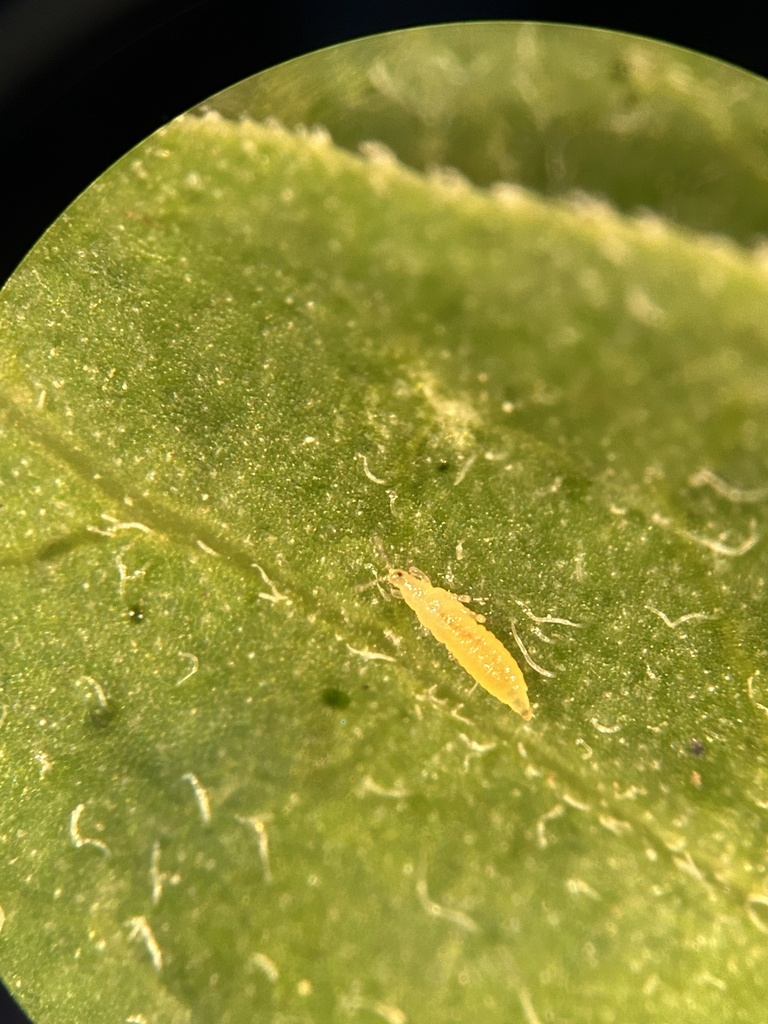tiny_pests: (311, 502, 608, 780)
